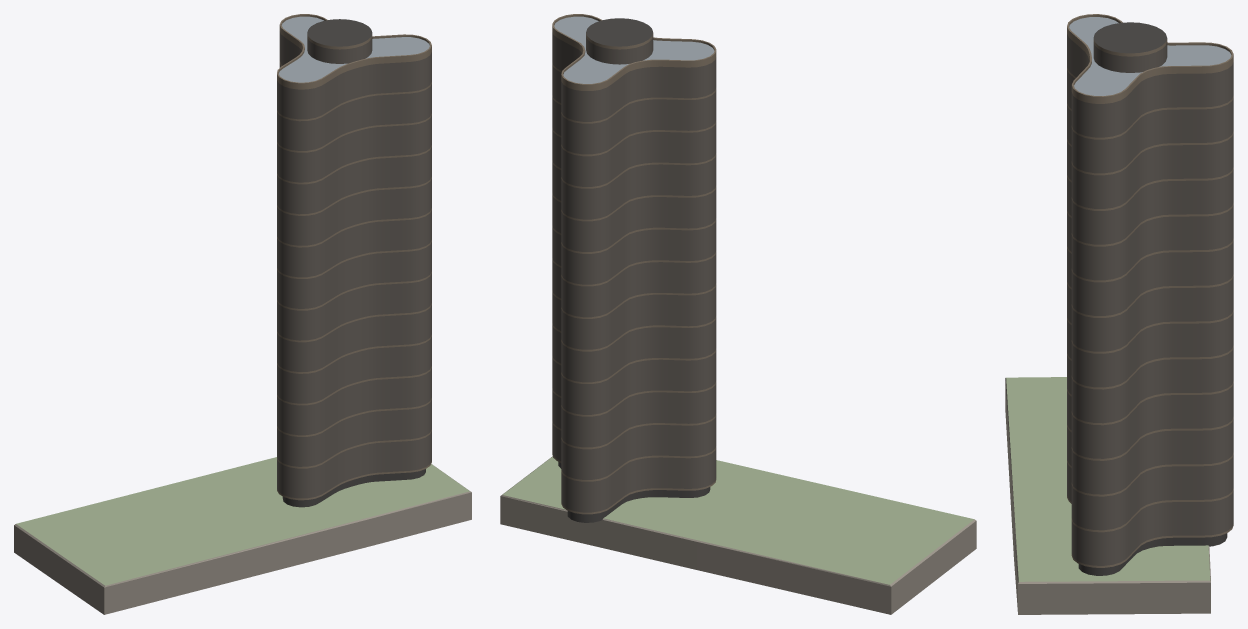
File: detail.glb
3 renders of one model, left to right at view 1: azimuth 30°, elevation 25°; view 2: azimuth 150°, elevation 25°; view 3: azimuth 270°, elevation 25°, orthographic. The views are drawn at different scales.
Parts seen in each view (by area): view 1: lake-point-tower; view 2: lake-point-tower; view 3: lake-point-tower.
Boxes of the visible parts, x1,y1,x2,y2 form: lake-point-tower: (14, 14, 471, 614); lake-point-tower: (500, 14, 976, 614); lake-point-tower: (1005, 14, 1233, 614).
Bounding box in the file's own units: 166 × 198 × 76.89.
